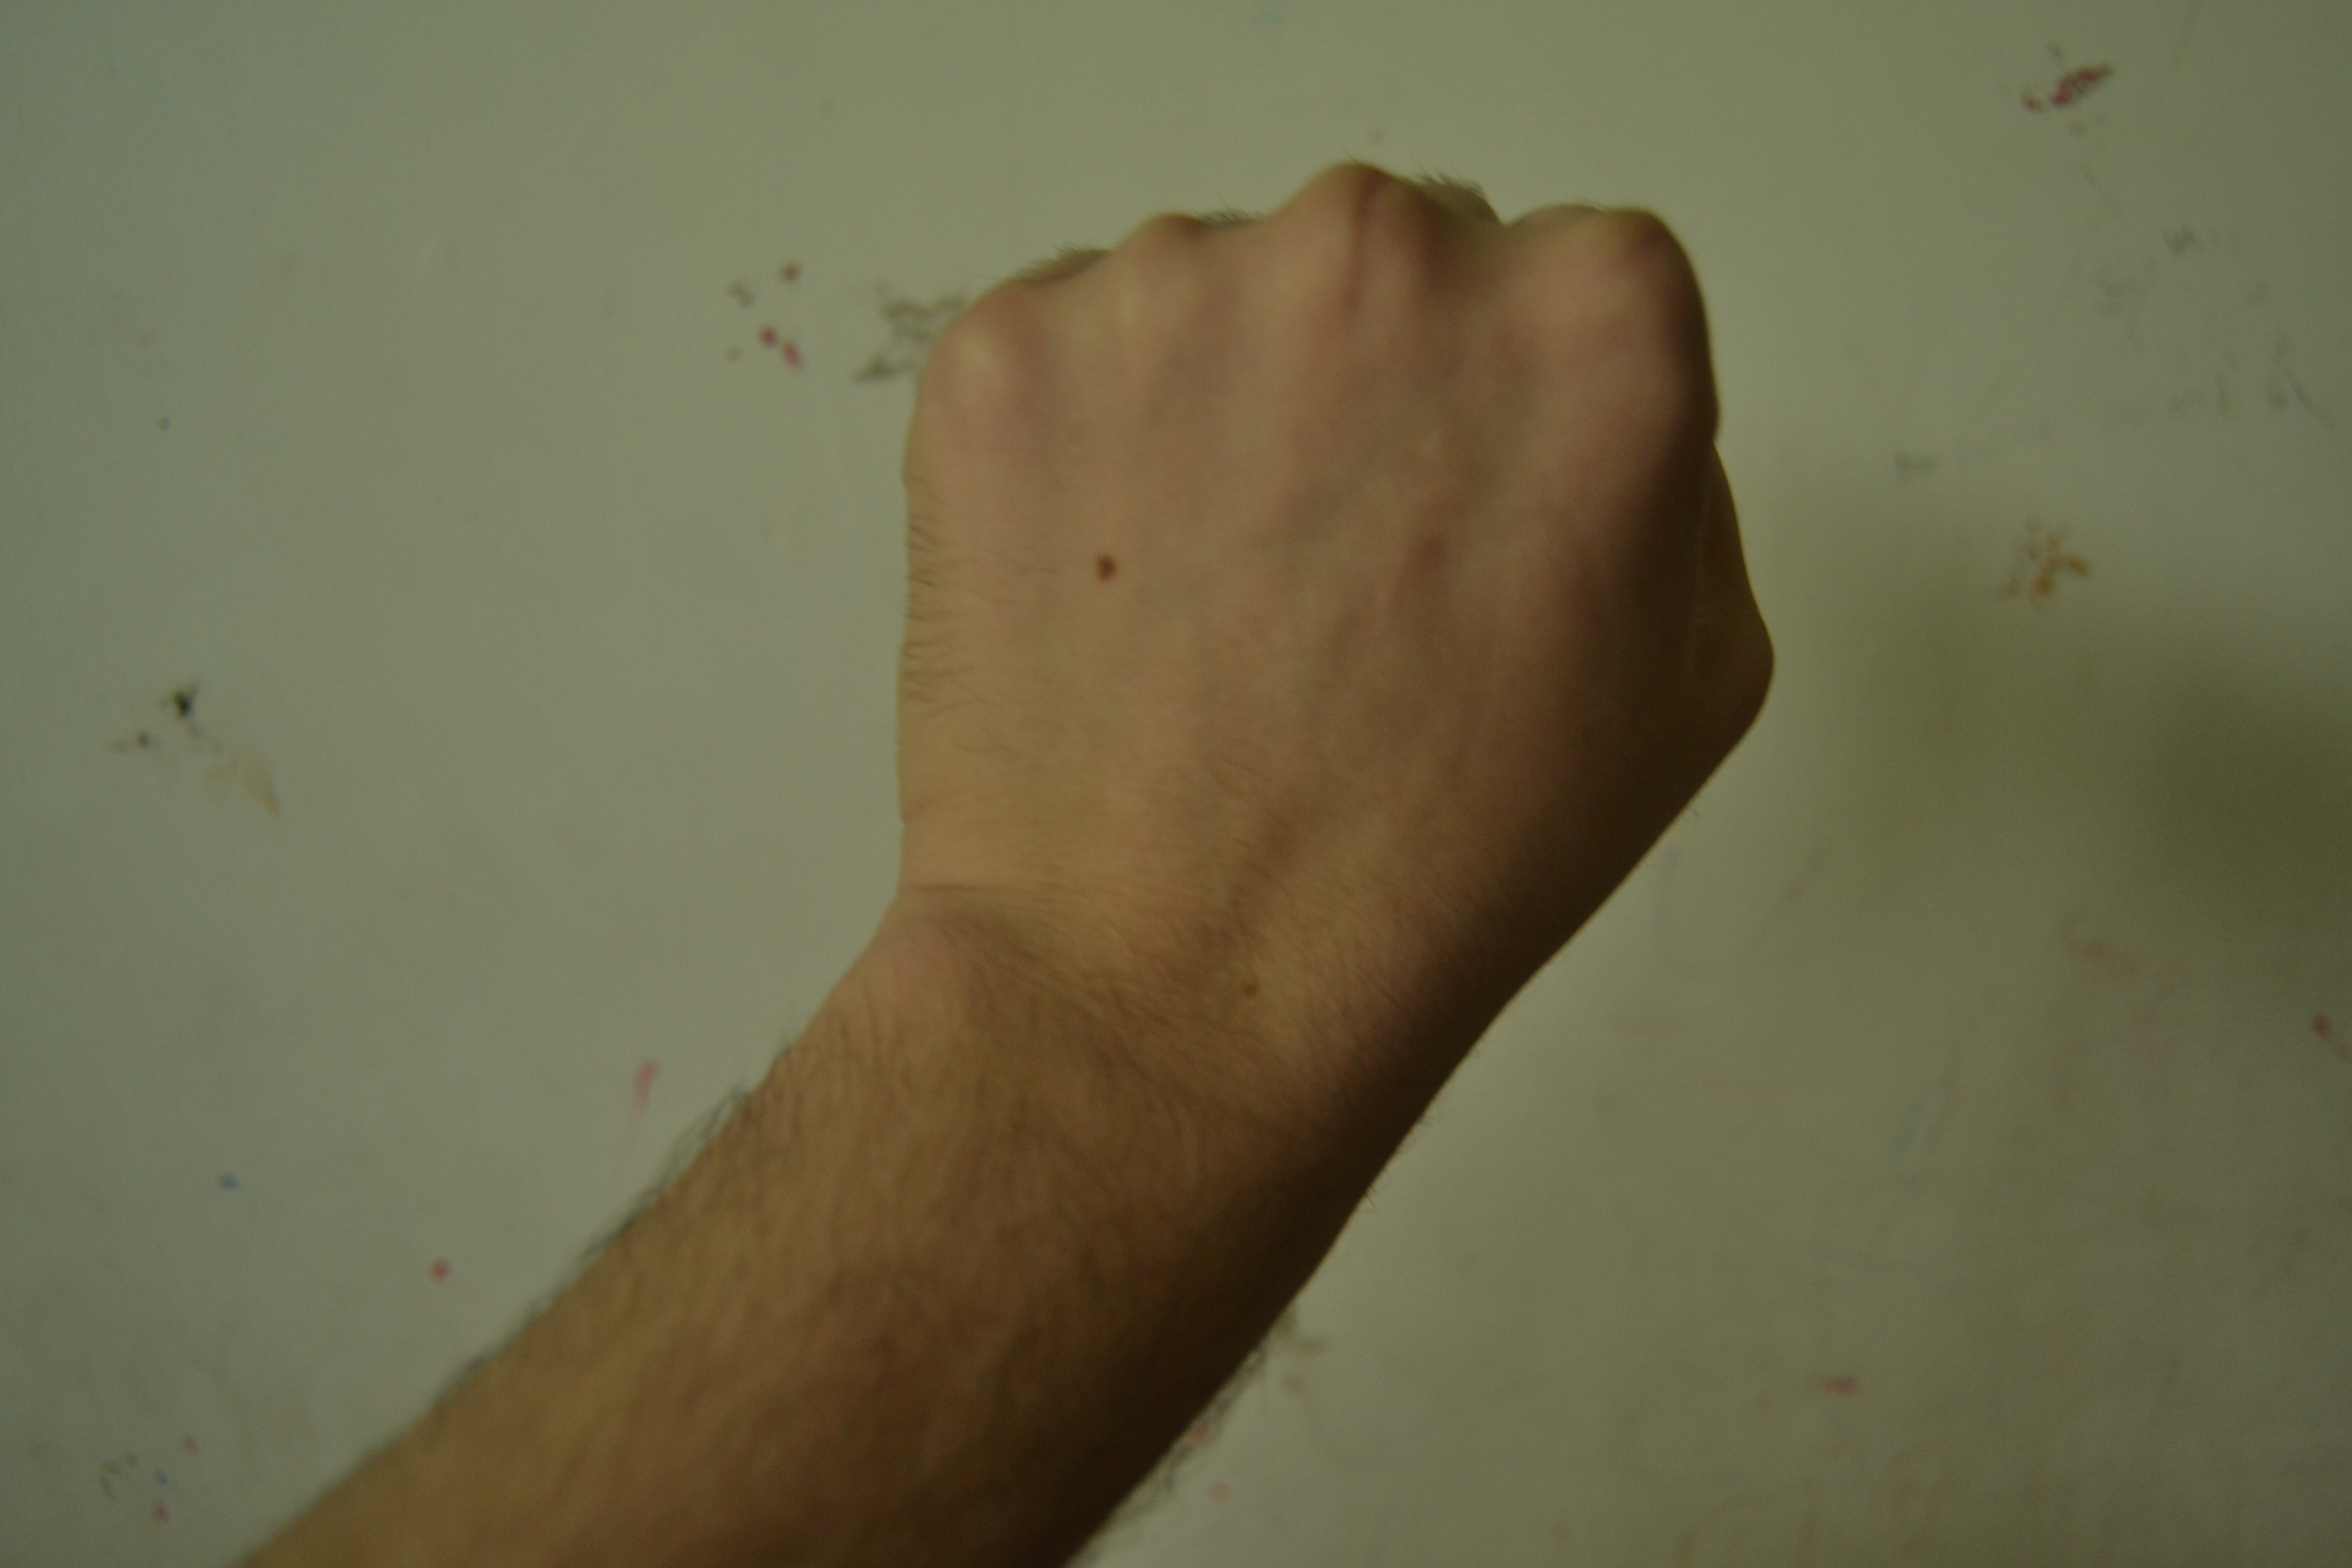click: (873, 180, 1820, 1018)
